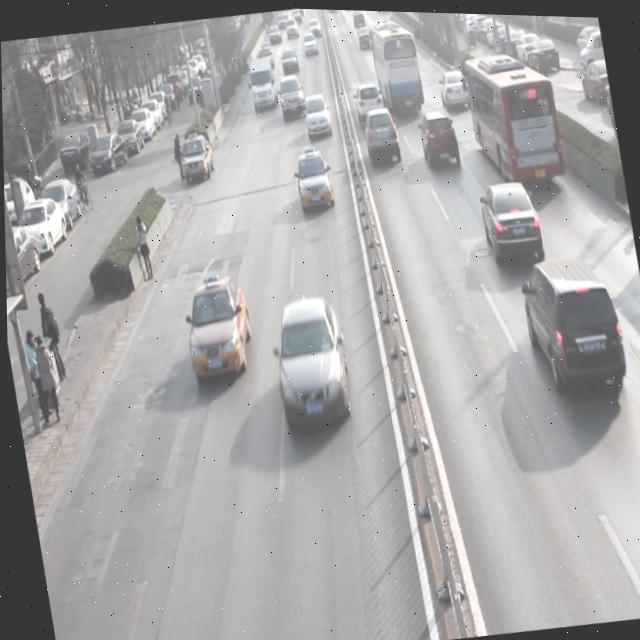car: (515, 244, 635, 407), (266, 296, 355, 432), (180, 273, 260, 392), (475, 168, 549, 270), (291, 142, 337, 218), (416, 103, 463, 171), (359, 101, 405, 165), (177, 130, 217, 180), (300, 90, 334, 142), (435, 61, 471, 109), (352, 77, 387, 126), (274, 70, 308, 120), (280, 45, 300, 71)
truck: (244, 54, 279, 113)
van: (462, 45, 566, 192), (367, 16, 426, 117)
